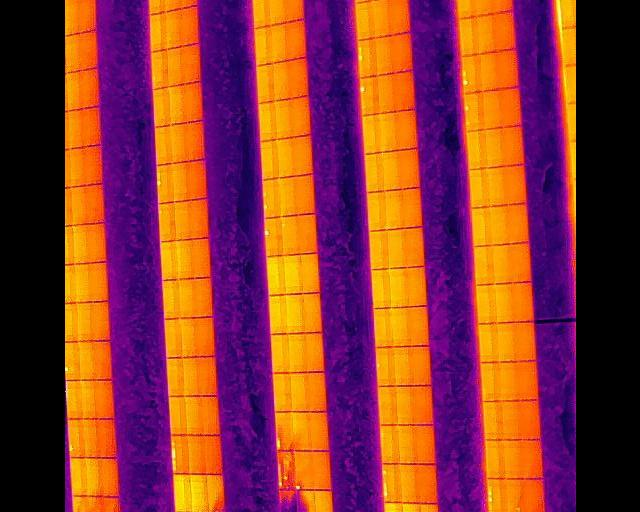Cell: (292, 451, 311, 490), (359, 76, 378, 115), (264, 217, 282, 258), (376, 347, 394, 386), (158, 203, 175, 242), (66, 419, 83, 457), (281, 217, 298, 255), (64, 342, 79, 381), (560, 0, 576, 28), (490, 0, 510, 14)
Cell-Multi: (273, 411, 292, 451), (464, 92, 482, 132), (462, 54, 480, 94), (485, 479, 506, 512), (357, 38, 375, 76), (277, 451, 294, 491), (262, 178, 279, 217), (383, 465, 400, 503), (171, 435, 187, 474), (506, 479, 523, 512)
No-Anomaly: (400, 188, 422, 228), (504, 205, 527, 243), (398, 149, 419, 190), (182, 82, 203, 123), (498, 88, 520, 127), (501, 166, 523, 205), (395, 110, 416, 150), (402, 228, 423, 268), (521, 439, 542, 479), (506, 243, 527, 283), (394, 71, 414, 112), (410, 346, 431, 385), (500, 127, 521, 166), (77, 70, 98, 109), (518, 400, 539, 439), (511, 283, 532, 322), (96, 419, 116, 459), (295, 174, 314, 216), (414, 425, 434, 464), (302, 294, 322, 333), (80, 146, 100, 185), (484, 440, 504, 479), (517, 362, 537, 401), (390, 33, 409, 74), (182, 42, 200, 85), (406, 267, 425, 307), (296, 216, 316, 254), (299, 254, 318, 294), (306, 372, 325, 412), (371, 269, 390, 309), (478, 324, 498, 362), (466, 129, 485, 169), (480, 363, 500, 401), (514, 323, 534, 361), (269, 334, 288, 374), (189, 198, 207, 240), (75, 33, 96, 69), (412, 385, 431, 424), (312, 451, 331, 490), (416, 465, 435, 504), (476, 285, 495, 324), (493, 13, 512, 52), (265, 257, 284, 296), (79, 109, 99, 146), (186, 160, 206, 197), (409, 306, 427, 347), (305, 332, 323, 373), (181, 5, 199, 46), (185, 121, 203, 162), (368, 191, 387, 229), (285, 22, 304, 60), (496, 50, 515, 88), (390, 307, 408, 347), (288, 59, 306, 99), (309, 411, 327, 451), (85, 184, 103, 224), (362, 114, 380, 154), (192, 237, 209, 279), (74, 0, 95, 34), (365, 153, 383, 192), (185, 396, 203, 435), (69, 458, 87, 497), (258, 103, 276, 142), (283, 255, 301, 294), (375, 35, 392, 76), (370, 229, 387, 270), (469, 168, 486, 209), (474, 245, 491, 286), (195, 318, 212, 359), (523, 479, 544, 512), (289, 98, 307, 136), (370, 0, 388, 38), (498, 324, 516, 362), (484, 401, 502, 439), (254, 27, 273, 63), (268, 296, 286, 334), (381, 425, 398, 465), (292, 411, 309, 451), (374, 308, 391, 348), (379, 385, 396, 425), (481, 89, 498, 129), (95, 379, 112, 419), (74, 263, 91, 303), (278, 177, 295, 217), (294, 138, 312, 175), (259, 142, 277, 179), (387, 0, 406, 35), (90, 263, 107, 302), (288, 334, 305, 373), (289, 373, 306, 412), (88, 224, 105, 263), (378, 74, 395, 113), (459, 15, 476, 54), (472, 208, 489, 247), (476, 14, 493, 53), (504, 440, 521, 479), (197, 357, 214, 396), (257, 64, 274, 103), (76, 302, 93, 341), (273, 373, 290, 412), (165, 318, 181, 359), (356, 0, 372, 41), (480, 51, 496, 92), (155, 124, 171, 165), (153, 86, 169, 127), (72, 223, 88, 264), (500, 363, 517, 401), (204, 435, 221, 473), (191, 474, 208, 512), (70, 186, 87, 224), (380, 113, 396, 153), (93, 302, 109, 342), (195, 277, 211, 317), (175, 199, 190, 241), (396, 385, 412, 424), (163, 280, 179, 319), (86, 458, 102, 497), (502, 400, 518, 439), (285, 295, 301, 334), (95, 341, 111, 380), (64, 109, 80, 148), (383, 151, 398, 192), (166, 9, 181, 50), (495, 283, 510, 324), (64, 148, 80, 186), (151, 13, 167, 51), (65, 381, 81, 419), (175, 474, 191, 512), (278, 140, 294, 178), (390, 268, 405, 308), (161, 241, 176, 281), (486, 166, 501, 206), (275, 100, 290, 140), (388, 229, 403, 268), (394, 347, 409, 386), (398, 425, 413, 464), (102, 458, 117, 497), (152, 50, 167, 89), (171, 396, 186, 435), (173, 162, 188, 201), (179, 279, 194, 318), (188, 435, 203, 474), (401, 465, 416, 503), (78, 342, 93, 380), (166, 46, 180, 86), (80, 379, 94, 419), (486, 127, 500, 167), (181, 318, 195, 358), (177, 239, 191, 279), (492, 244, 506, 283), (203, 396, 217, 435), (490, 206, 504, 244), (169, 358, 183, 396), (183, 358, 197, 396), (274, 62, 288, 100), (386, 189, 399, 229), (271, 25, 285, 62), (171, 123, 184, 162), (169, 85, 182, 124), (64, 72, 77, 110), (84, 418, 96, 458), (252, 0, 269, 28), (284, 0, 303, 22), (268, 0, 284, 25), (315, 491, 331, 512), (456, 0, 473, 19), (472, 0, 491, 16), (148, 0, 166, 14), (164, 0, 181, 11), (384, 503, 402, 512), (403, 503, 421, 512), (420, 503, 438, 512), (181, 0, 198, 8)
Shadowing: (208, 474, 224, 512), (296, 491, 314, 512), (279, 490, 295, 512), (104, 497, 122, 512), (72, 496, 88, 512), (89, 496, 104, 512)
Unclassified: (155, 164, 173, 203)
